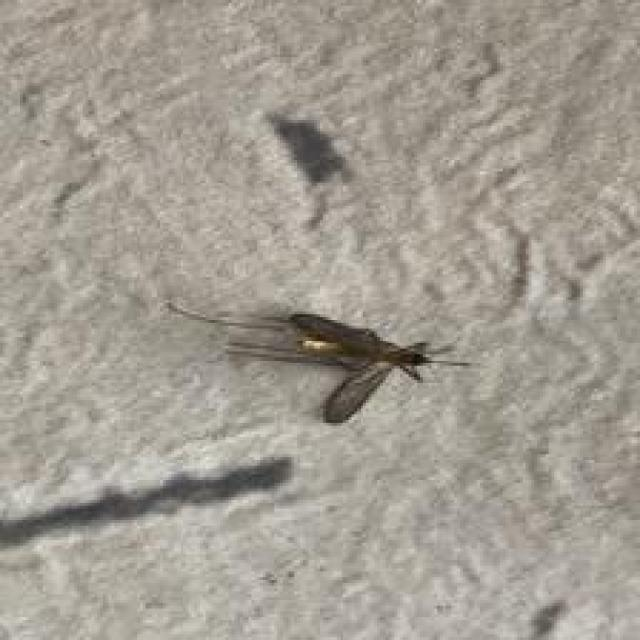Culex: (164, 296, 473, 424)
